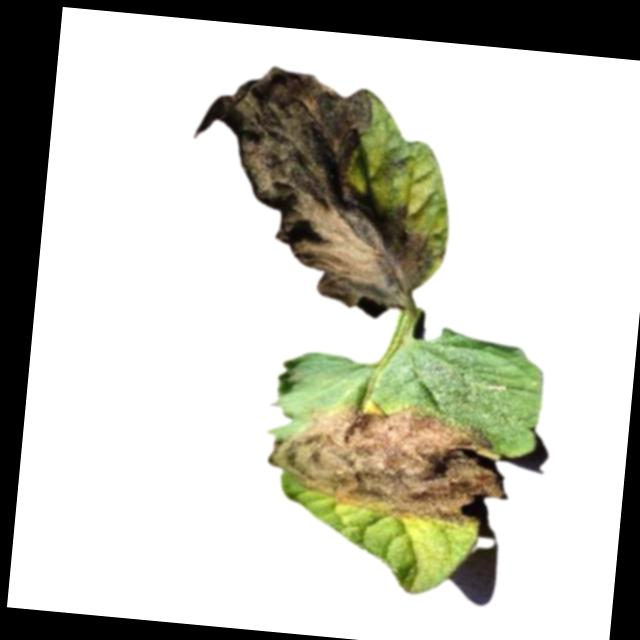Late_blight: (178, 63, 450, 322), (263, 388, 516, 532)
